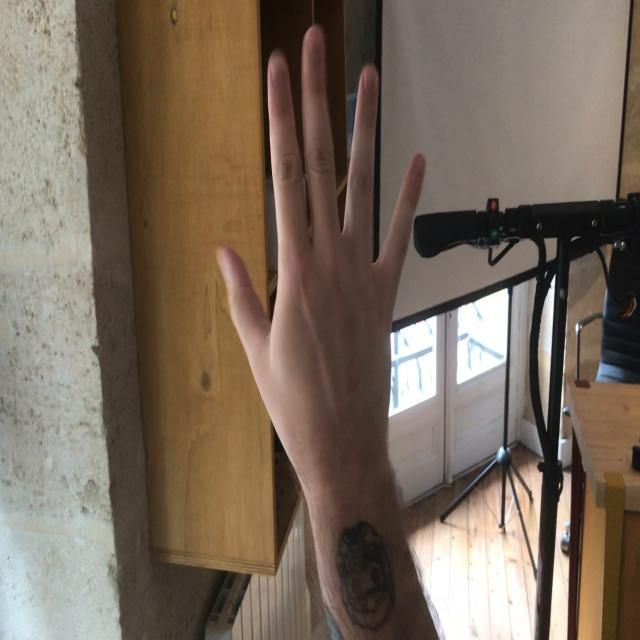no-gloves: (212, 24, 428, 459)
